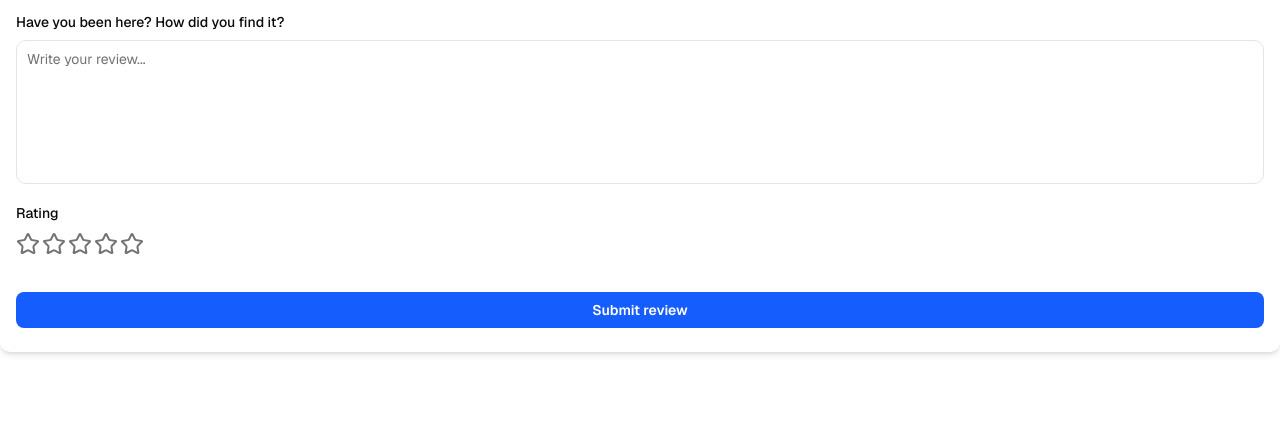
Test: ReviewForm › clears the comment error once text is entered
Click the button "Submit review" at [640, 310], box [16,292,1264,328]
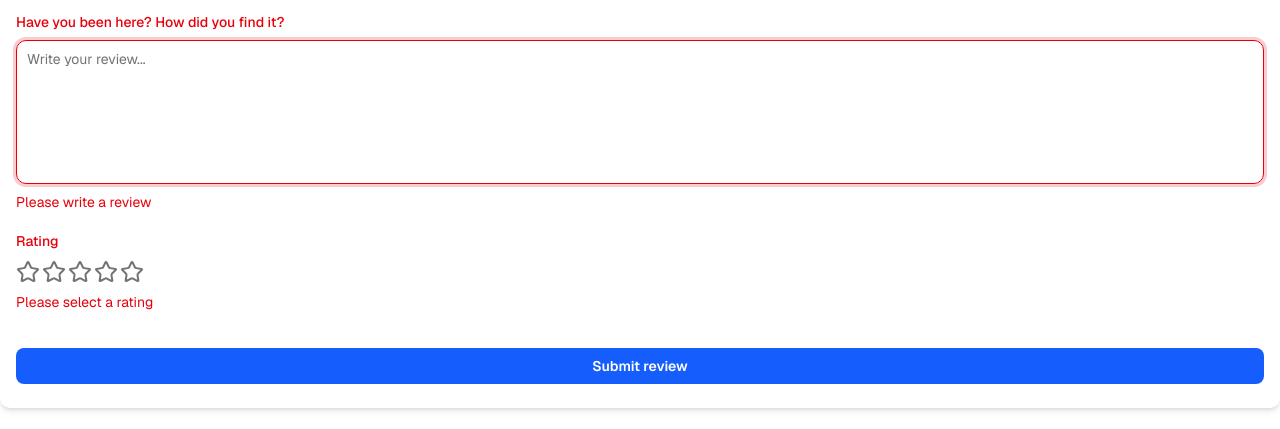
Expected: the text "Please write a review" is shown, [16,193,151,211]
Type "Great food and service!" into the text box labelled "Have you been here? How did you find it?" at [640, 112], box [16,40,1264,184]
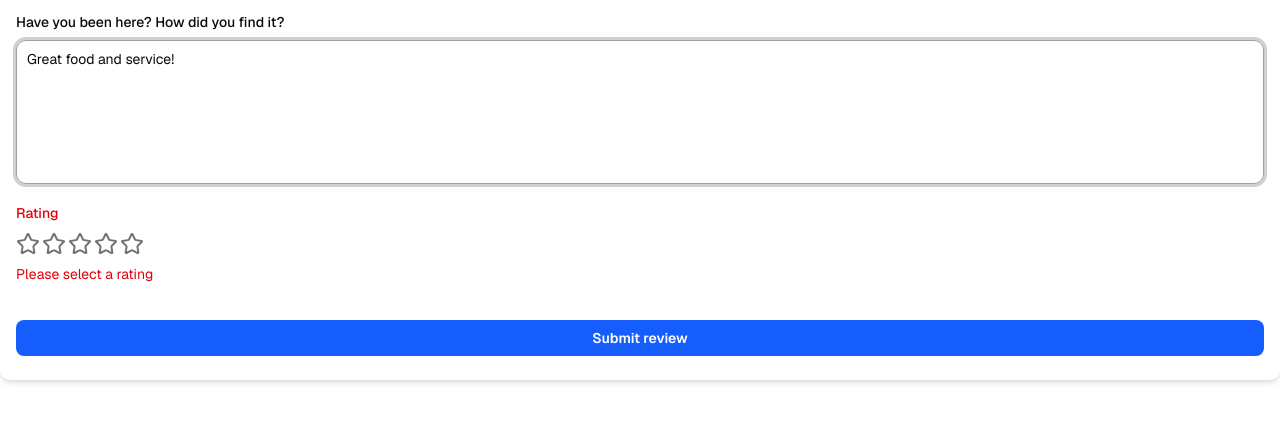
Expected: the text "Please write a review" is gone
